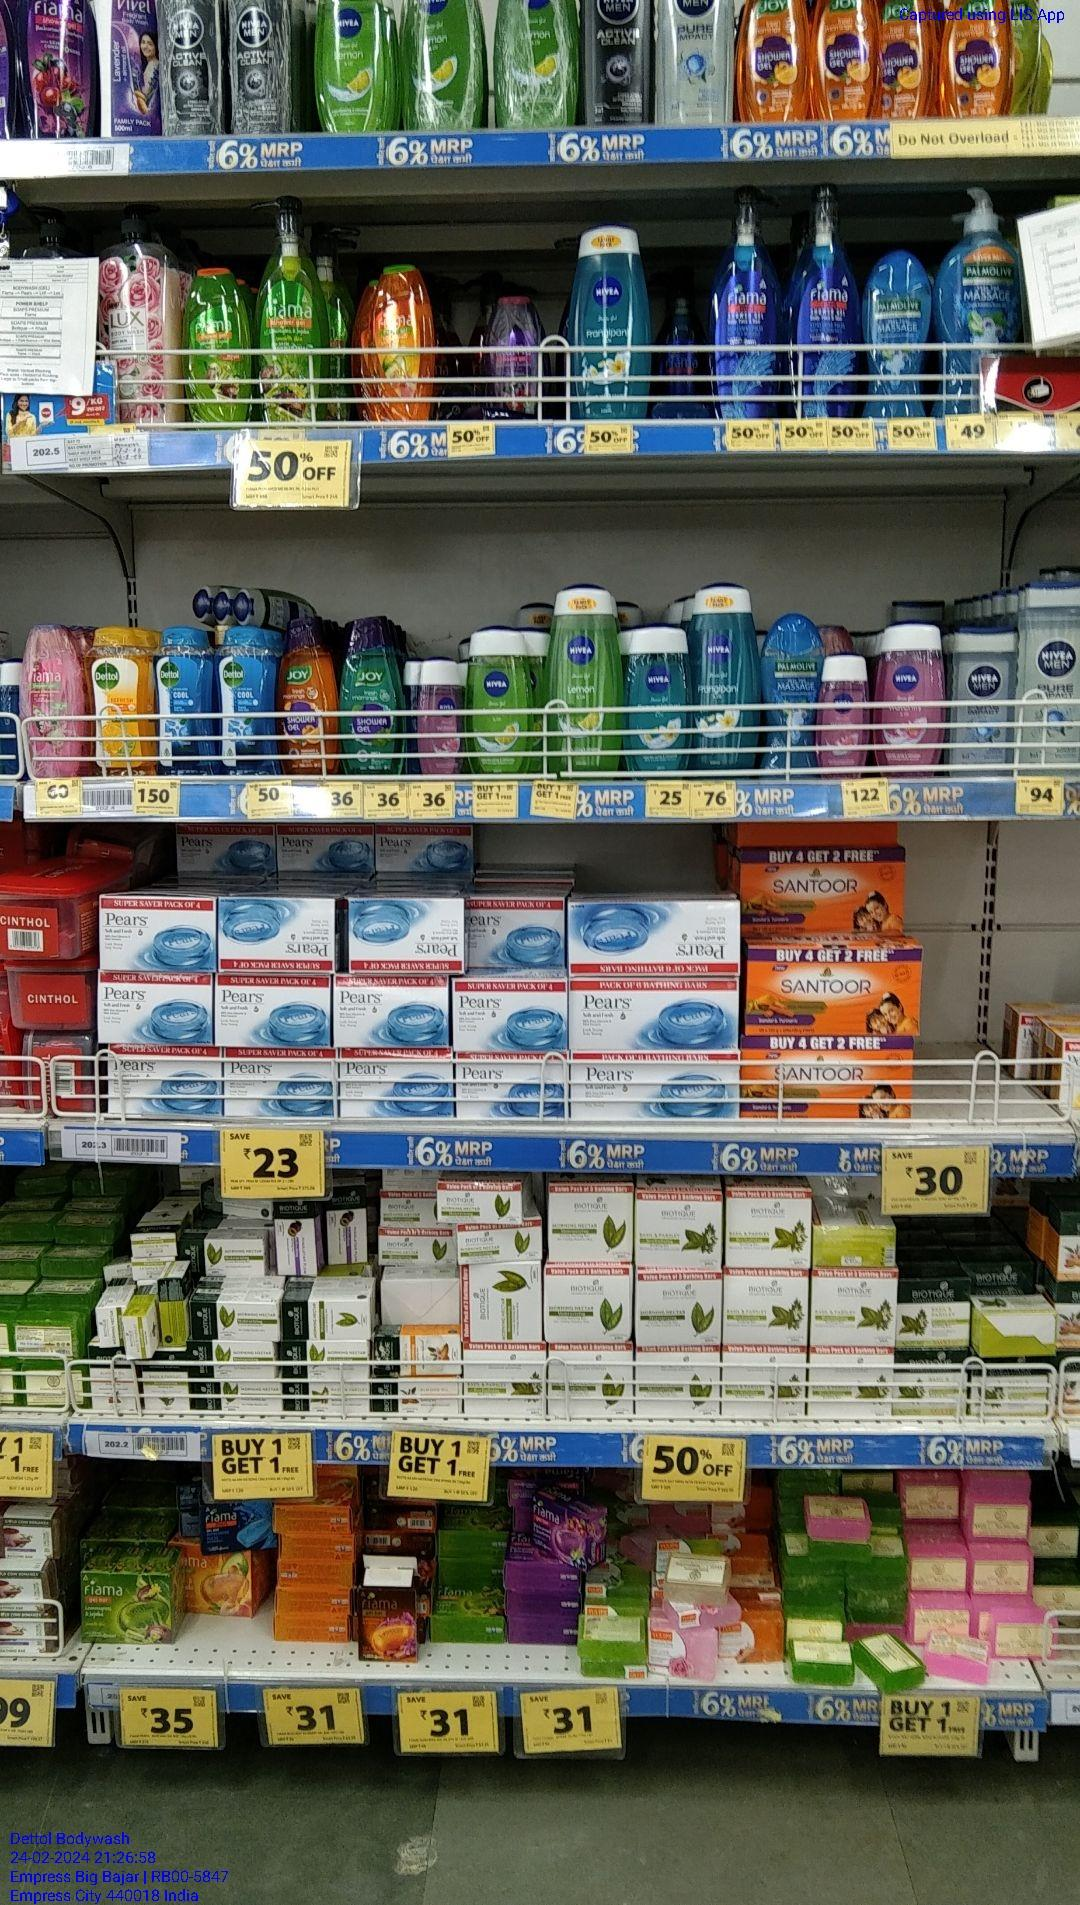Dettol_Bodywash_Cool: (220, 628, 278, 776), (157, 623, 211, 775)
Dettol_Bodywash_Refresh: (88, 628, 152, 776)
Fiama_Shower_Gel_Patchouli_and_Macadamia_250ML: (16, 627, 81, 781)
Fiama_Shower_Gel_Peach_and_Avocado_250ML: (368, 264, 432, 423)
Joy_Shower_Gel_Mandarin_and_Lemongrass_250ML: (285, 620, 334, 768)
Joy_Shower_Gel_Mint_and_Eucalyptus_250ML: (344, 616, 401, 775)
Nivea_Shower_Gel_Frangipani_and_Oil_250ML: (568, 226, 648, 417), (699, 582, 759, 769), (623, 625, 685, 769)
Nivea_Shower_Gel_Lemon_and_Oil_250ML: (556, 587, 621, 775), (469, 631, 533, 776)
Nivea_Shower_Gel_Waterlily_and_Oil_250ML: (880, 623, 940, 769)
Palmolive_Aroma_Moments_Feel_The_Massage_Shower_Gel_250ML: (765, 618, 821, 768)
